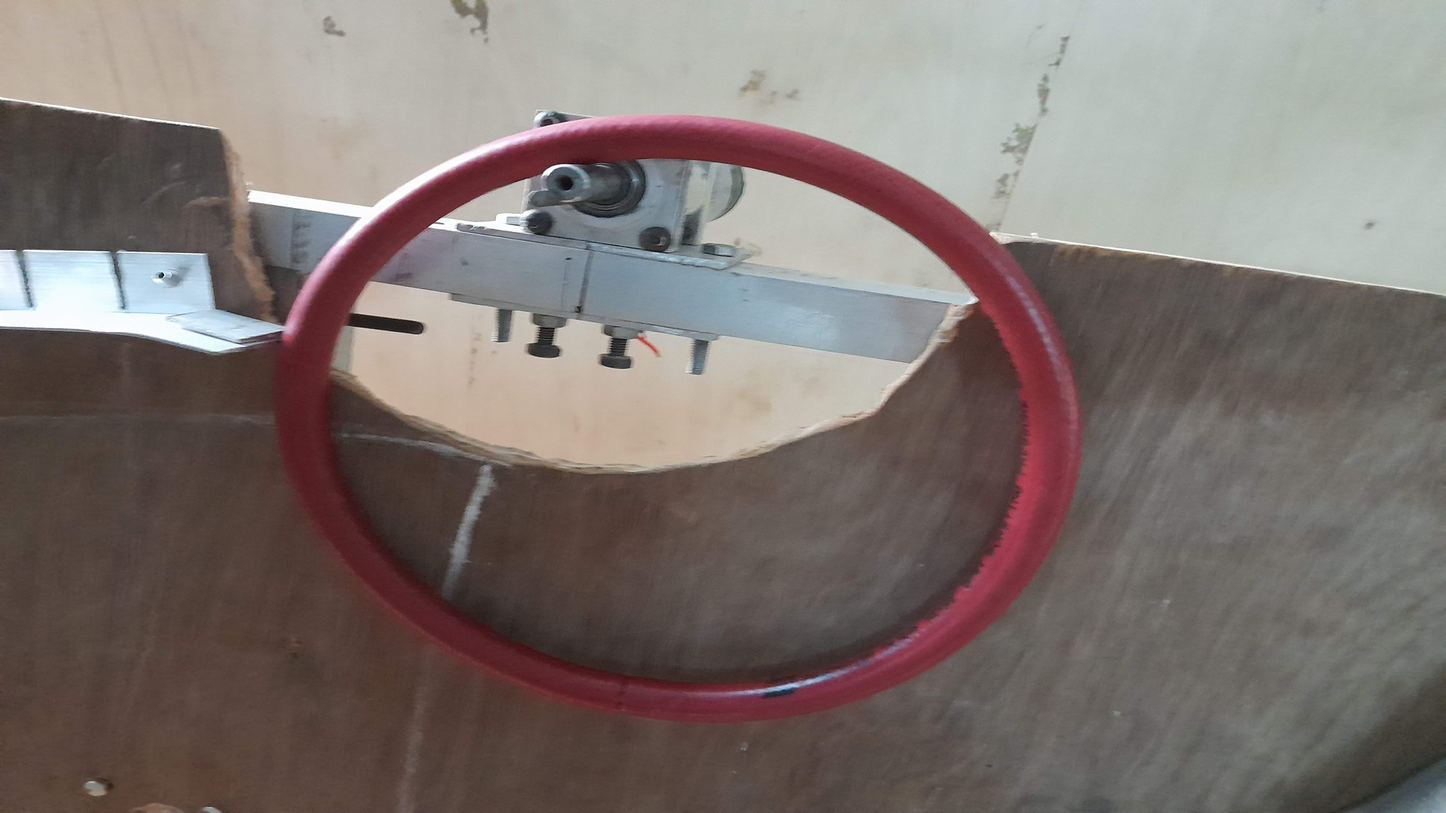Red ring: (288, 114, 1088, 725)
